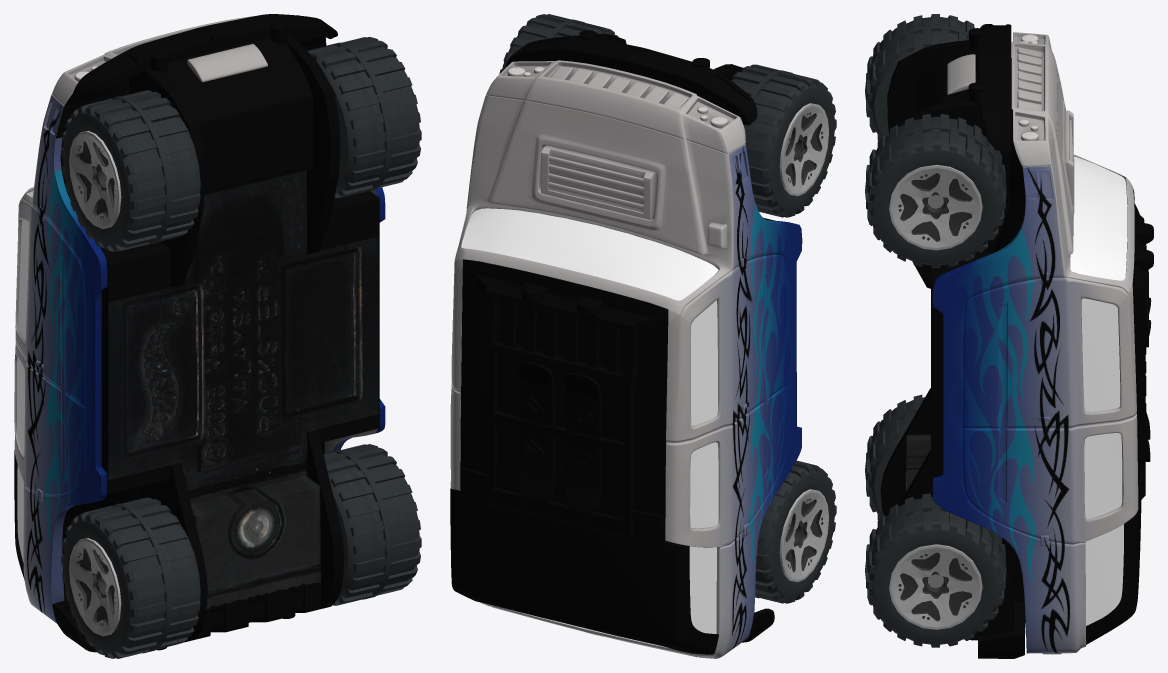
Rendered from rockster.glb.
3 views of the same model, side by side, from view 1: azimuth 30°, elevation 25°; view 2: azimuth 150°, elevation 25°; view 3: azimuth 270°, elevation 25° (orthographic). The views are drawn at different scales.
Visible parts, largest first — view 1: body, Wheel2, Wheel4, Wheel1, Wheel3; view 2: body, Wheel2, Wheel4, Wheel1; view 3: body, Wheel1, Wheel3, Wheel2, Wheel4.
Boxes of the visible parts, x1=… form: body: x1=14, y1=14, x2=385, y2=652; Wheel2: x1=61, y1=90, x2=200, y2=251; Wheel4: x1=61, y1=497, x2=200, y2=658; Wheel1: x1=307, y1=37, x2=421, y2=198; Wheel3: x1=323, y1=444, x2=421, y2=605; body: x1=450, y1=30, x2=802, y2=658; Wheel2: x1=731, y1=64, x2=836, y2=217; Wheel4: x1=755, y1=460, x2=836, y2=603; Wheel1: x1=499, y1=14, x2=618, y2=73; body: x1=880, y1=24, x2=1153, y2=658; Wheel1: x1=865, y1=114, x2=1006, y2=268; Wheel3: x1=865, y1=493, x2=1006, y2=647; Wheel2: x1=865, y1=14, x2=974, y2=140; Wheel4: x1=865, y1=394, x2=924, y2=520.
Size of the model in its own units: 3.08 by 5.91 by 2.81.
Materials: 13 (8 with a texture image).
